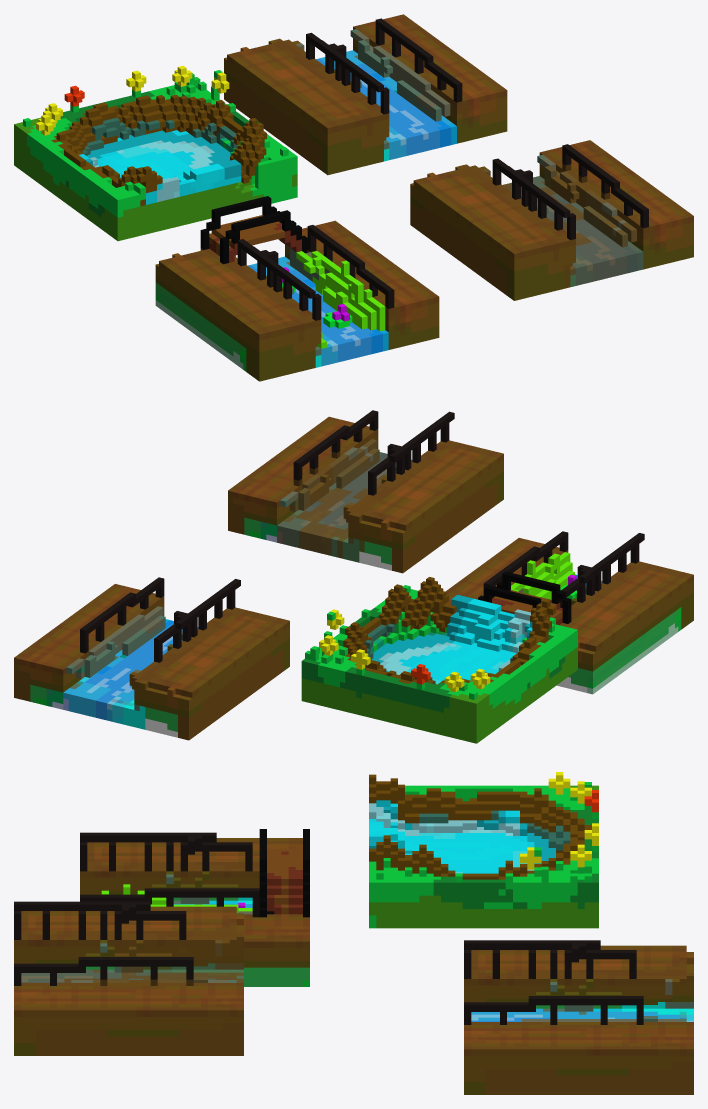
File: grachtparts.fbx
3 renders of one model, top to bottom at view 1: azimuth 30°, elevation 25°; view 2: azimuth 150°, elevation 25°; view 3: azimuth 270°, elevation 25°, orthographic. The views are drawn at different scales.
Visible parts, largest first — view 1: Layer.058, Layer.057, Layer.059, Layer.056; view 2: Layer.057, Layer.059, Layer.056, Layer.058; view 3: Layer.056, Layer.059, Layer.057, Layer.058.
Boxes of the visible parts, left/top/right/bottom form: Layer.058: left=155, top=196, right=439, bottom=381; Layer.057: left=14, top=65, right=297, bottom=241; Layer.059: left=410, top=140, right=693, bottom=300; Layer.056: left=224, top=14, right=507, bottom=175; Layer.057: left=301, top=577, right=577, bottom=743; Layer.059: left=228, top=410, right=503, bottom=573; Layer.056: left=14, top=577, right=289, bottom=740; Layer.058: left=445, top=531, right=693, bottom=694; Layer.056: left=464, top=940, right=693, bottom=1094; Layer.059: left=14, top=901, right=243, bottom=1055; Layer.057: left=369, top=772, right=598, bottom=928; Layer.058: left=80, top=829, right=309, bottom=986.
Bounding box in the file's own units: 7697 × 2109 × 9461.
4 materials, 4 textured.
